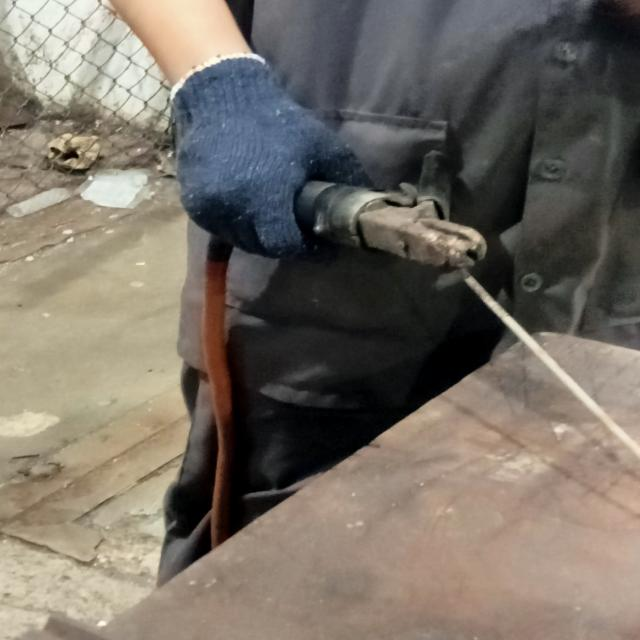Gloves-Detection: (163, 87, 351, 253)
